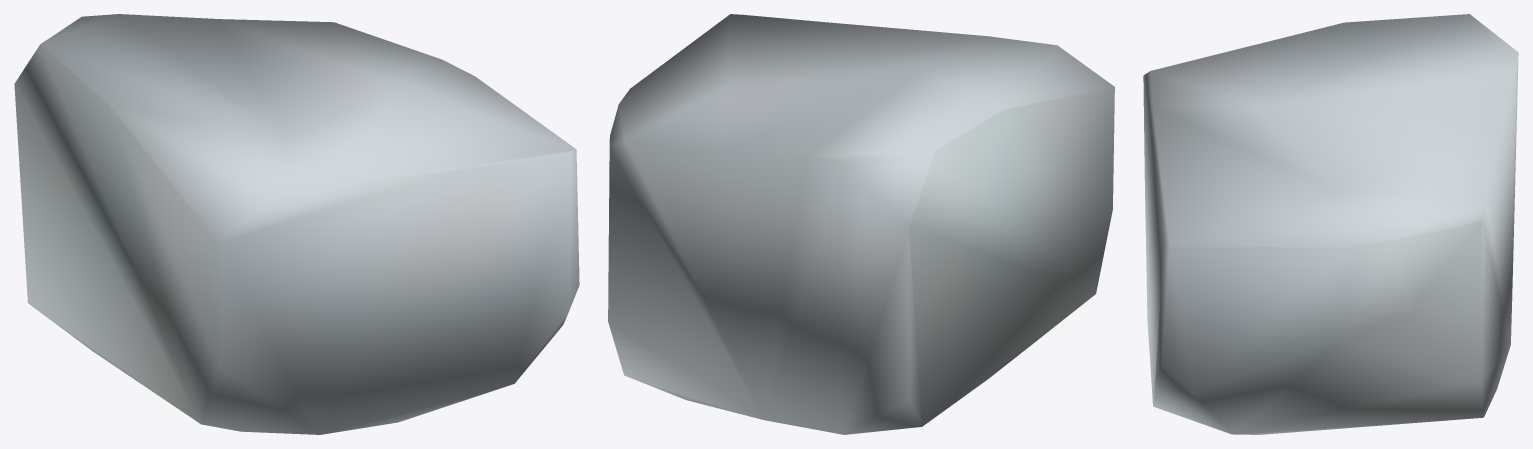
Rendered from P_RockCubic02.obj.
The picture shows the model from 3 angles, left to right: view 1: azimuth 30°, elevation 25°; view 2: azimuth 150°, elevation 25°; view 3: azimuth 270°, elevation 25°; orthographic projection. The views are drawn at different scales.
Bounding box in the file's own units: 0.6868 × 0.5221 × 0.6548.
